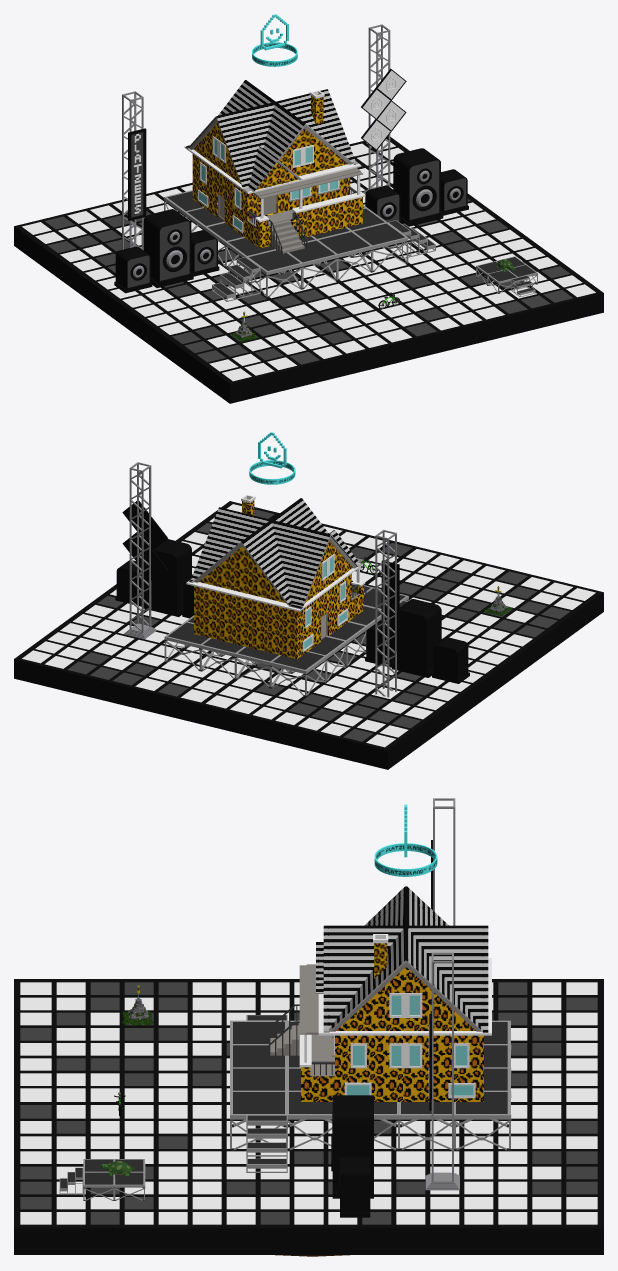
The picture shows the model from 3 angles, top to bottom: view 1: azimuth 30°, elevation 25°; view 2: azimuth 150°, elevation 25°; view 3: azimuth 270°, elevation 25°; orthographic projection. The views are drawn at different scales.
Parts seen in each view (by area): view 1: Cube.008, Cube.637, TYPE_PREMIUM; view 2: Cube.008, Cube.637, TYPE_PREMIUM; view 3: Cube.008, Cube.637, TYPE_PREMIUM.
Part boxes in pixels (box(x1,y1,x2,y2)): Cube.008: box(14, 24, 603, 403); Cube.637: box(184, 80, 365, 254); TYPE_PREMIUM: box(252, 14, 297, 66); Cube.008: box(14, 462, 603, 769); Cube.637: box(186, 494, 366, 658); TYPE_PREMIUM: box(249, 432, 295, 484); Cube.008: box(14, 798, 603, 1254); Cube.637: box(268, 886, 491, 1101); TYPE_PREMIUM: box(374, 804, 437, 876).
Bounding box in the file's own units: 4000 × 2578 × 4000.
Materials: 47 (3 with a texture image).
